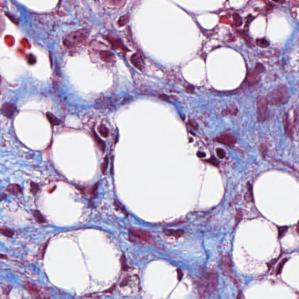ballooning: (39, 225, 129, 297), (125, 6, 206, 74), (228, 213, 285, 280)
